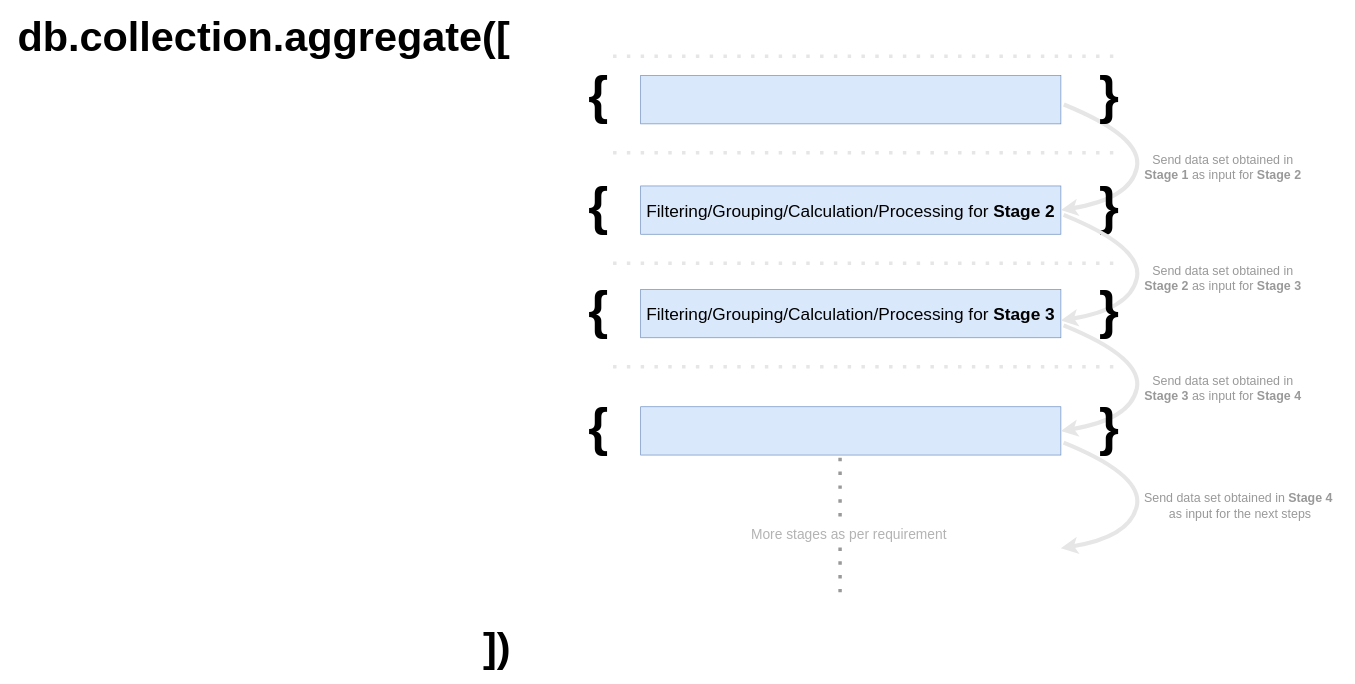
The diagram is 1355 pixels wide and 684 high, and some of its shapes have lost their labels. Here are the shapes that lost their labels. From the top down, the centre of each, then its label:
pixel 850 99: Filtering/Grouping/Calculation/Processing for Stage 1
pixel 850 430: Filtering/Grouping/Calculation/Processing for Stage 4
